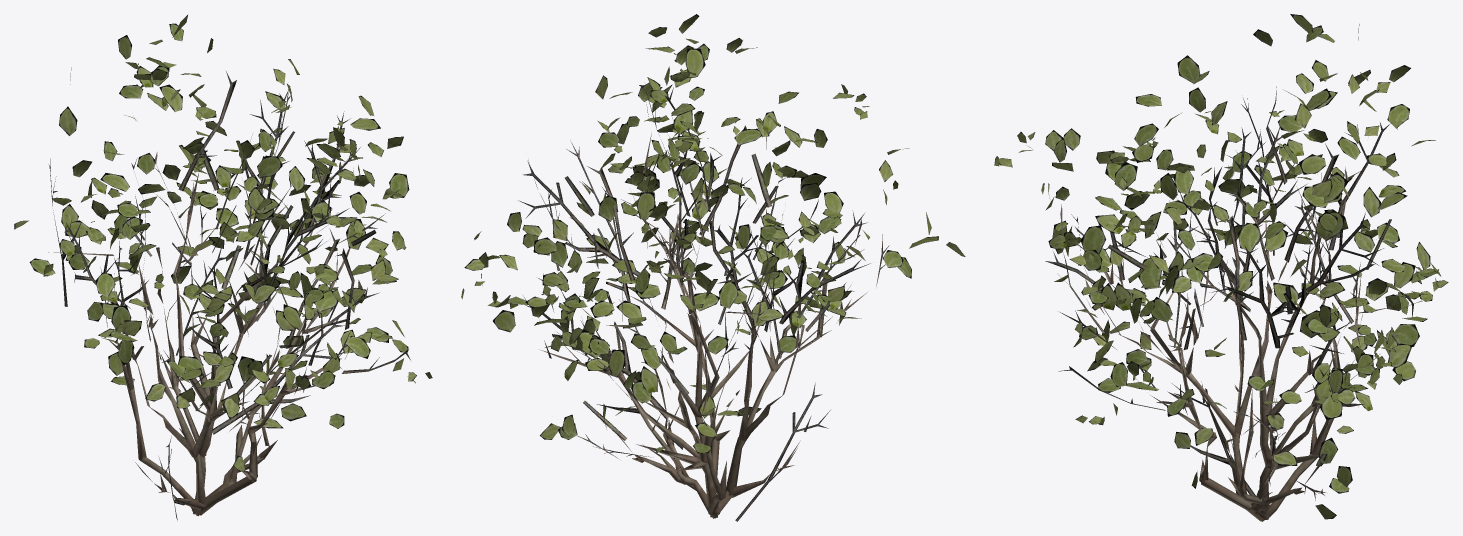
The model's file is arbuste_searsia_a_lod1.glb.
The picture shows the model from 3 angles, left to right: view 1: azimuth 30°, elevation 25°; view 2: azimuth 150°, elevation 25°; view 3: azimuth 270°, elevation 25°; orthographic projection. The views are drawn at different scales.
Visible parts, largest first — view 1: searsia_lucida_a_LOD0; view 2: searsia_lucida_a_LOD0; view 3: searsia_lucida_a_LOD0.
Part boxes in pixels (x1=…): searsia_lucida_a_LOD0: x1=14, y1=15, x2=432, y2=520; searsia_lucida_a_LOD0: x1=461, y1=14, x2=965, y2=521; searsia_lucida_a_LOD0: x1=994, y1=14, x2=1448, y2=521.
Size of the model in its own units: 1.72 by 2.27 by 1.83.
Materials: 2 (2 with a texture image).
